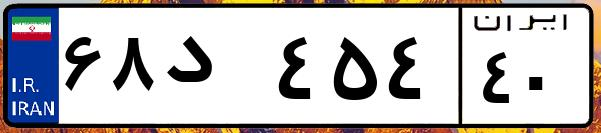0: (525, 38, 570, 115)
4: (270, 28, 330, 110), (385, 28, 445, 110), (475, 38, 525, 113)
5: (330, 28, 385, 110)
6: (57, 26, 110, 100)
8: (110, 28, 158, 98)
د: (158, 20, 270, 120)
